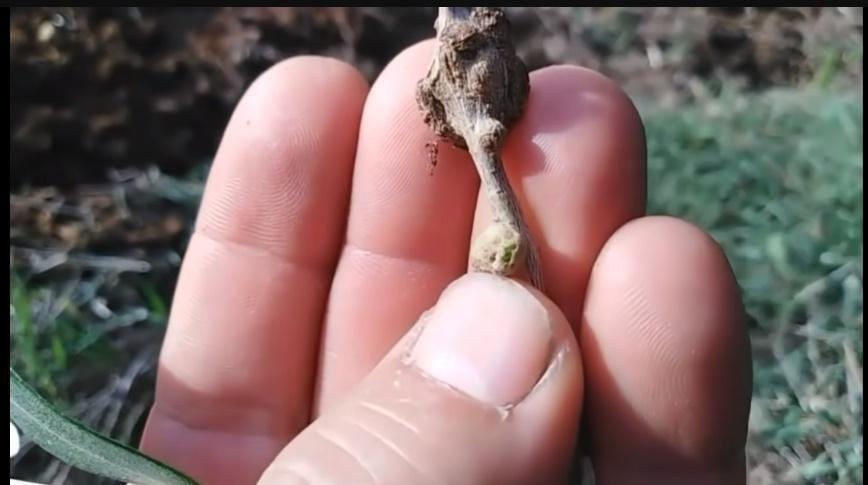Tuberculosis: (404, 2, 550, 166)
